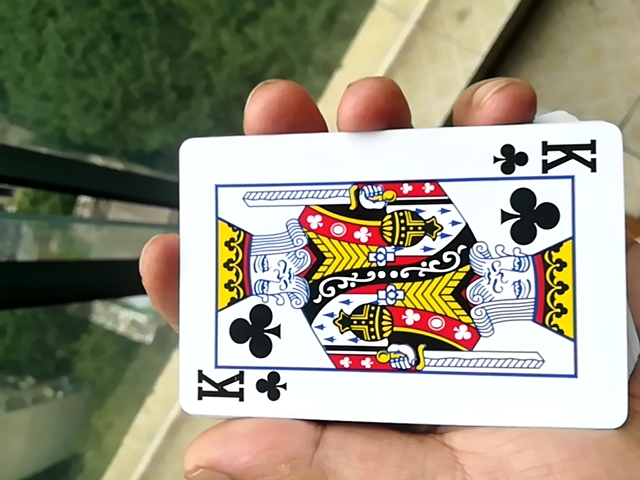mh k: (162, 126, 623, 432)
